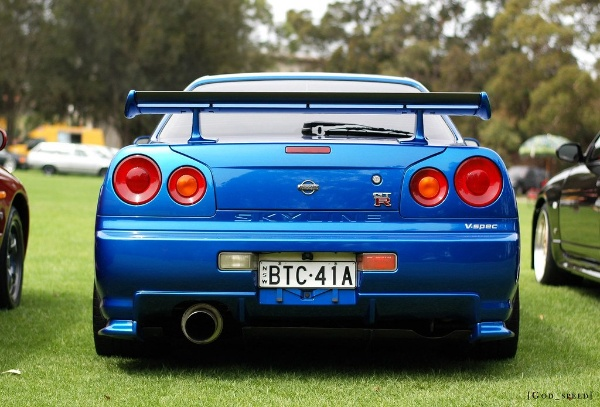licence: (253, 245, 362, 291)
